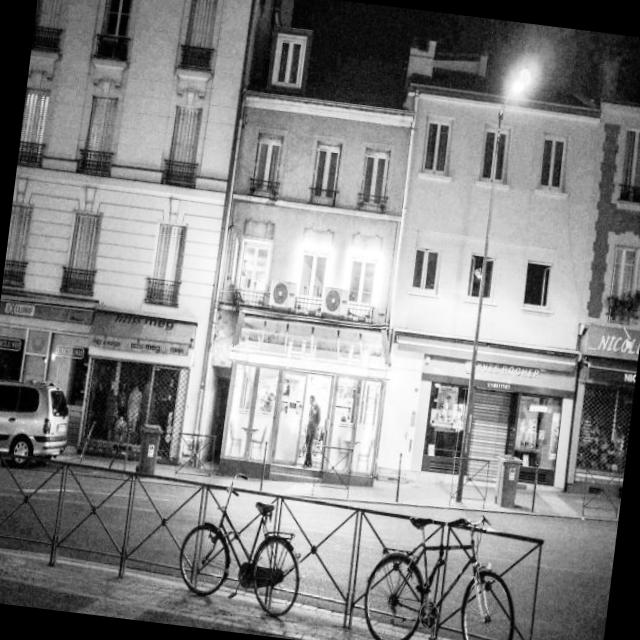Bicycle: (363, 475, 552, 640), (157, 482, 313, 640)
Car: (0, 363, 83, 494)
